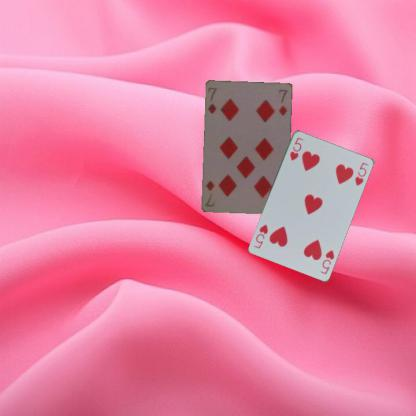5h: (287, 134, 305, 162), (318, 247, 336, 275)
7d: (205, 85, 219, 115)
